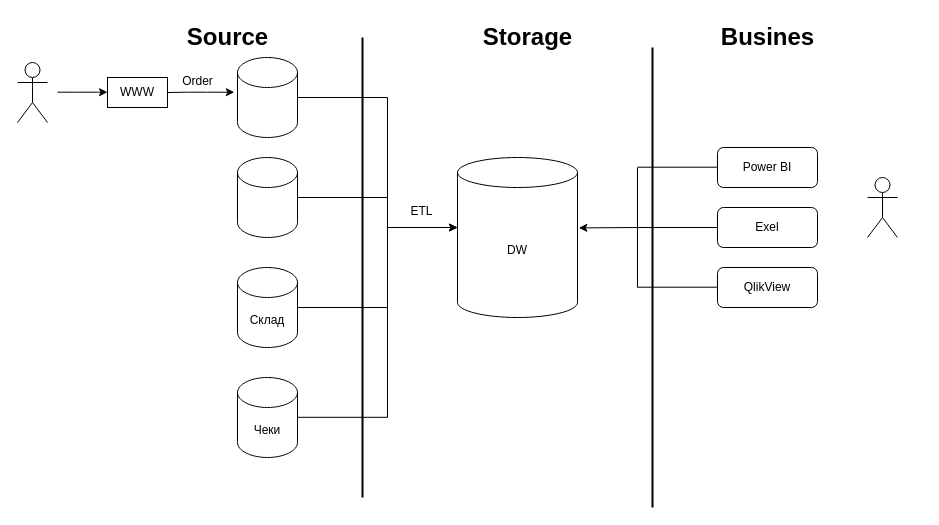
Image size: 939x525. Some labels were removed from this diagram. The centre of each missing label's shape, as x and y in pixels:
Actor: pixel 32 92
CRM: pixel 267 97
Метрика: pixel 267 197
Пользователь: pixel 882 207
